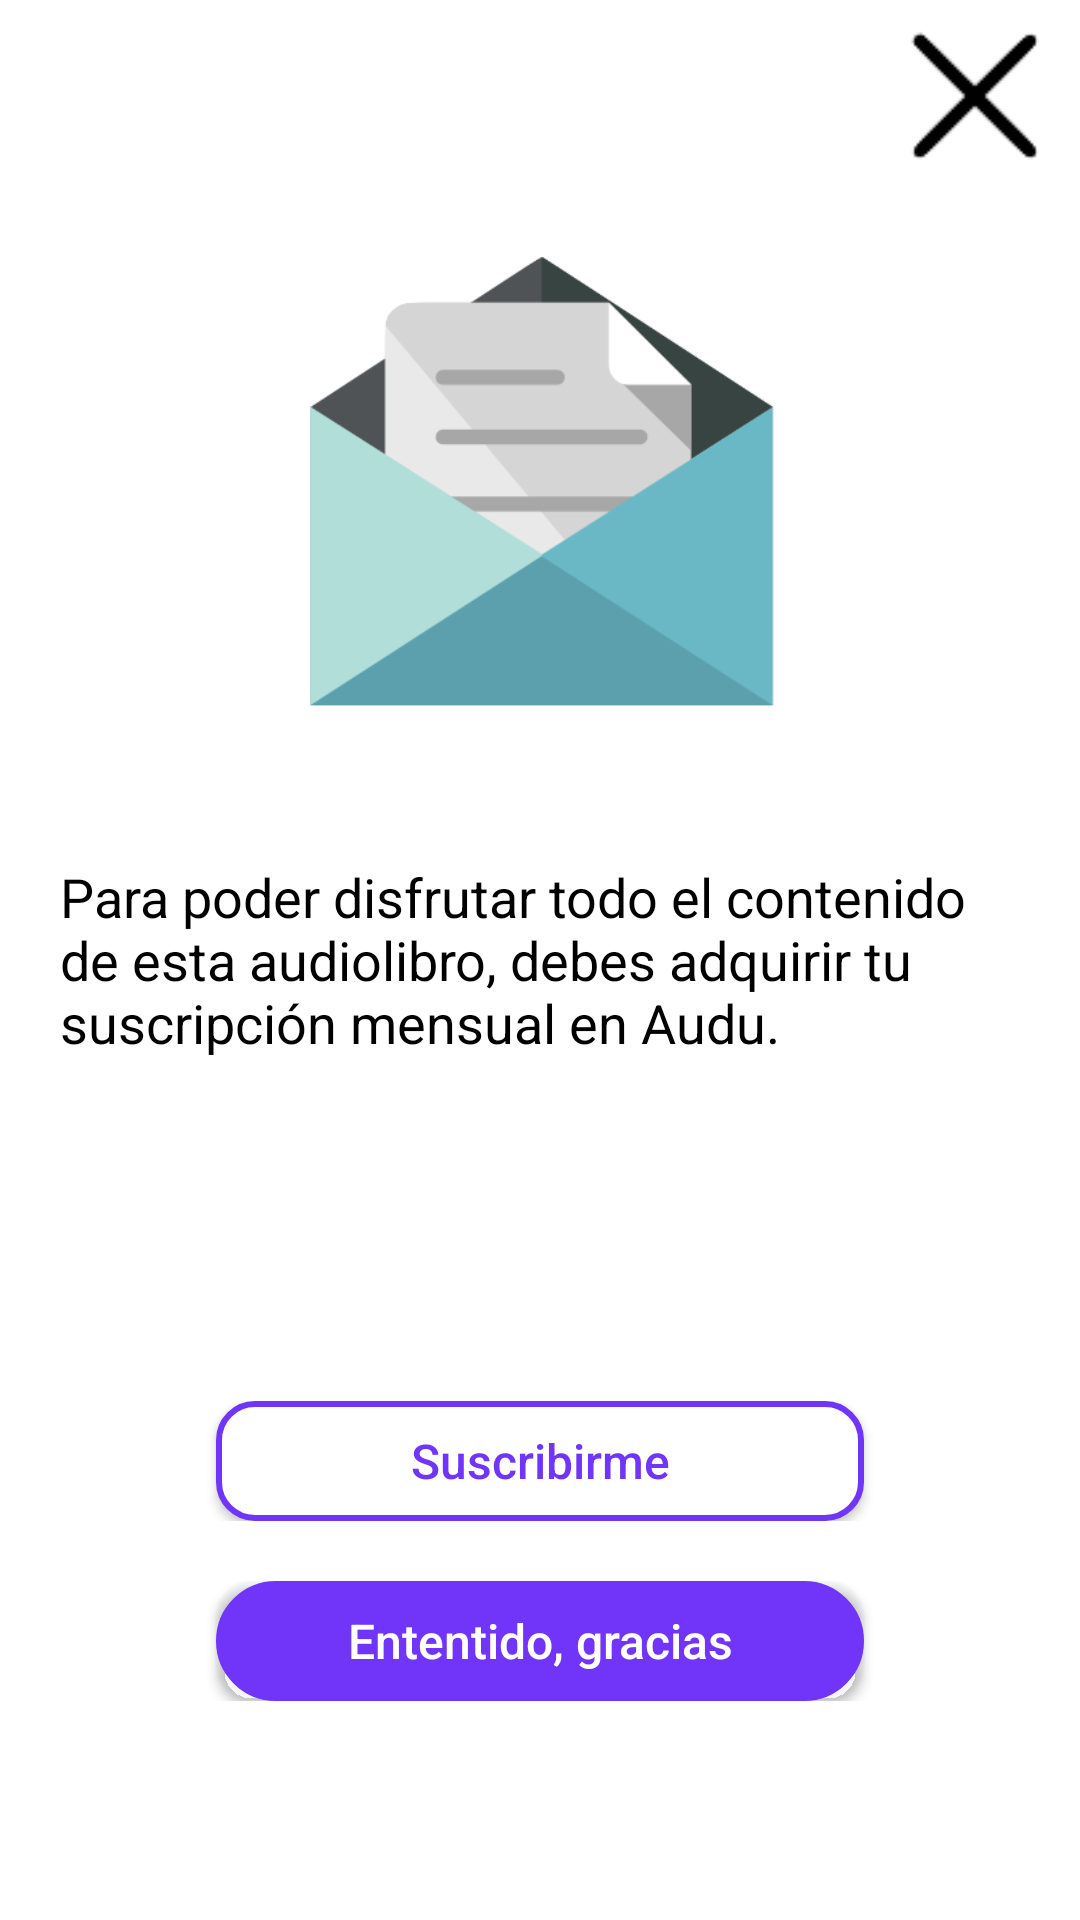

Named icons in this screenshot (1080px x 1920px) and their bounding boxes, (x1, y1, x2, y2):
close: (911, 32, 1037, 158)
